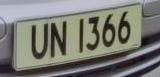1: (74, 13, 88, 59)
3: (84, 12, 102, 56)
6: (100, 12, 118, 49), (117, 11, 132, 46)
N: (49, 16, 69, 61)
U: (28, 20, 50, 63)
